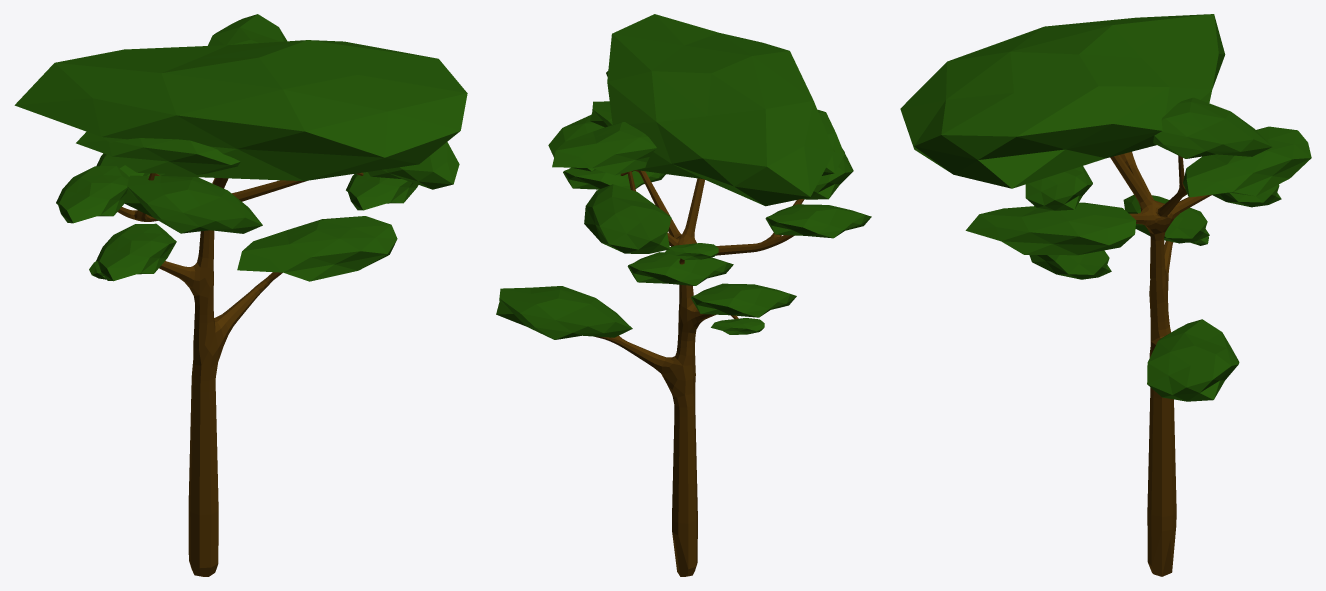
The model's file is M_Tropische bomen.fbx.
The picture shows the model from 3 angles, left to right: view 1: azimuth 30°, elevation 25°; view 2: azimuth 150°, elevation 25°; view 3: azimuth 270°, elevation 25°; orthographic projection. The views are drawn at different scales.
Visible parts, largest first — view 1: Cube; view 2: Cube; view 3: Cube.
Part boxes in pixels (x1,y1,x2,y2): Cube: (14,14,467,576); Cube: (496,14,871,576); Cube: (900,14,1311,576).
Bounding box in the file's own units: 1239 × 1734 × 1225.
